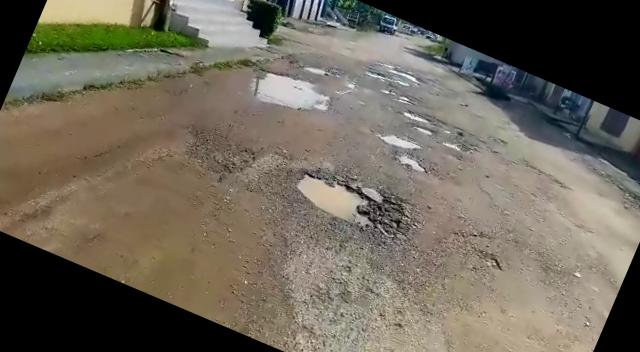pothole: (288, 158, 414, 246), (250, 63, 336, 126), (374, 126, 426, 158), (390, 150, 434, 178), (397, 105, 439, 129), (380, 84, 420, 107), (304, 62, 330, 80), (440, 140, 464, 154), (412, 124, 434, 138)
